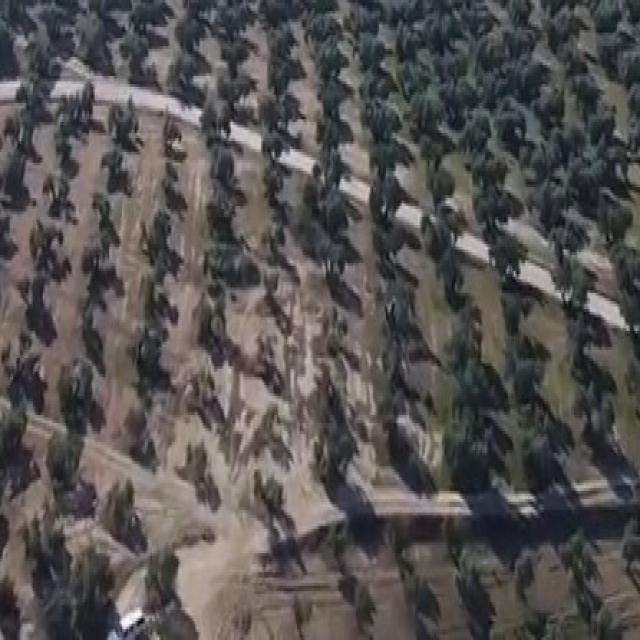trees: (513, 395, 570, 484), (18, 505, 78, 586), (441, 294, 496, 374), (442, 420, 506, 488), (443, 359, 511, 422), (571, 379, 617, 460), (77, 550, 128, 622), (302, 220, 356, 288), (191, 283, 236, 364), (367, 268, 420, 336), (37, 423, 90, 490), (5, 259, 53, 330), (548, 253, 599, 319), (366, 384, 417, 449), (60, 350, 99, 434), (25, 213, 74, 279), (557, 524, 603, 593), (130, 211, 184, 267), (452, 544, 494, 616), (305, 427, 349, 495), (245, 460, 287, 530), (119, 396, 162, 464), (200, 236, 256, 288), (416, 202, 466, 260), (74, 294, 112, 370), (128, 325, 176, 385), (147, 545, 186, 618), (132, 265, 179, 324), (468, 178, 522, 229), (488, 221, 533, 280), (179, 438, 212, 518), (563, 312, 606, 373), (82, 239, 121, 305), (102, 483, 146, 540), (3, 330, 38, 400), (315, 307, 358, 363), (430, 248, 472, 303), (75, 14, 111, 78), (119, 36, 162, 89), (375, 328, 412, 389), (103, 96, 143, 152), (202, 179, 242, 235), (508, 333, 548, 389), (194, 96, 237, 148), (362, 167, 404, 220), (528, 180, 574, 228), (593, 199, 637, 249), (490, 283, 539, 327), (98, 147, 134, 206), (368, 213, 412, 261), (56, 79, 94, 133), (313, 186, 357, 232), (455, 112, 497, 160), (0, 403, 26, 480), (258, 211, 292, 269), (509, 542, 543, 600), (597, 140, 636, 190), (12, 70, 50, 121), (38, 172, 83, 215), (256, 90, 302, 132), (310, 112, 358, 152), (316, 522, 359, 566), (546, 218, 588, 263), (493, 97, 528, 151), (358, 92, 397, 140), (0, 152, 32, 210), (90, 183, 122, 241), (567, 152, 604, 202), (408, 93, 449, 138), (290, 590, 326, 640), (312, 142, 350, 188), (413, 136, 451, 180), (401, 54, 435, 101), (421, 167, 458, 210), (466, 153, 509, 190), (444, 82, 480, 126), (48, 122, 82, 168), (20, 37, 60, 76), (156, 106, 187, 156), (156, 154, 186, 204), (362, 136, 399, 176), (353, 34, 389, 75), (618, 516, 640, 583), (316, 75, 350, 118), (618, 283, 640, 349), (1, 111, 40, 148), (512, 53, 552, 89), (606, 242, 639, 284), (585, 102, 617, 145), (472, 69, 505, 110), (166, 55, 202, 92), (255, 130, 292, 166), (556, 40, 589, 80), (217, 34, 249, 75), (358, 66, 392, 104), (504, 22, 542, 56), (258, 164, 288, 207), (123, 0, 159, 35), (434, 52, 472, 85), (425, 20, 459, 56), (394, 21, 426, 59), (214, 73, 250, 106), (546, 0, 574, 41), (536, 90, 569, 124), (262, 28, 298, 59), (521, 142, 556, 173), (204, 146, 242, 174), (506, 0, 538, 33), (306, 9, 340, 40), (351, 1, 381, 36), (174, 14, 202, 51), (220, 0, 250, 34), (573, 74, 605, 105), (472, 33, 502, 66), (42, 0, 69, 36), (258, 0, 292, 28), (315, 42, 343, 74), (466, 0, 493, 32), (269, 61, 299, 88), (555, 124, 580, 151)
